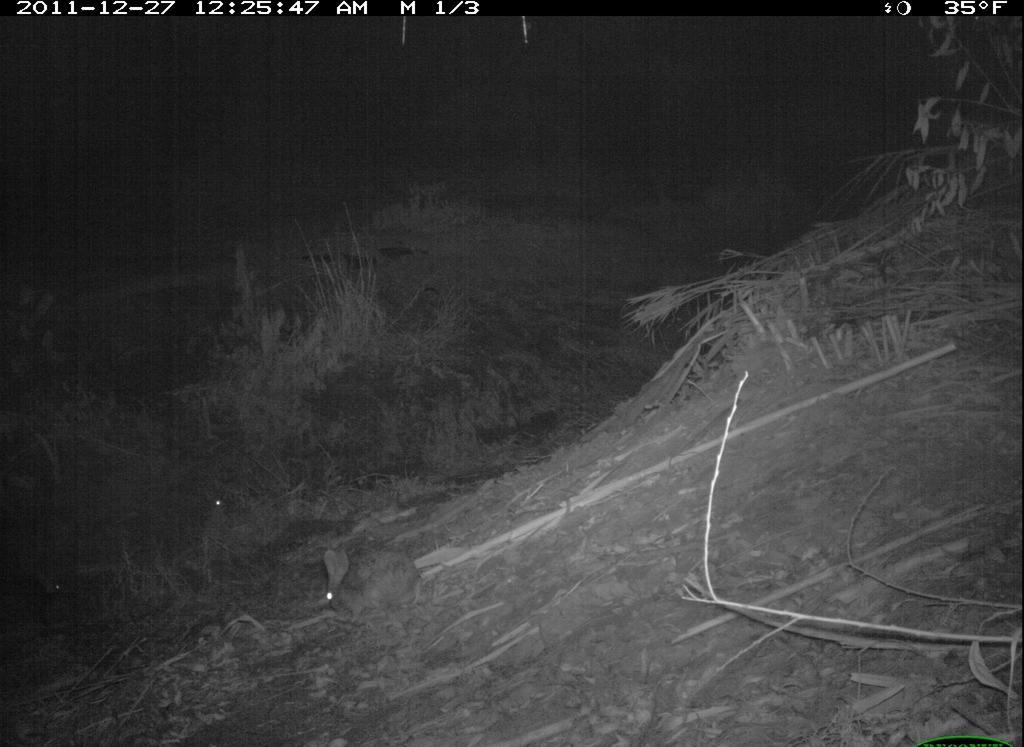rabbit: (311, 542, 429, 629), (23, 559, 83, 645), (196, 485, 234, 540)
